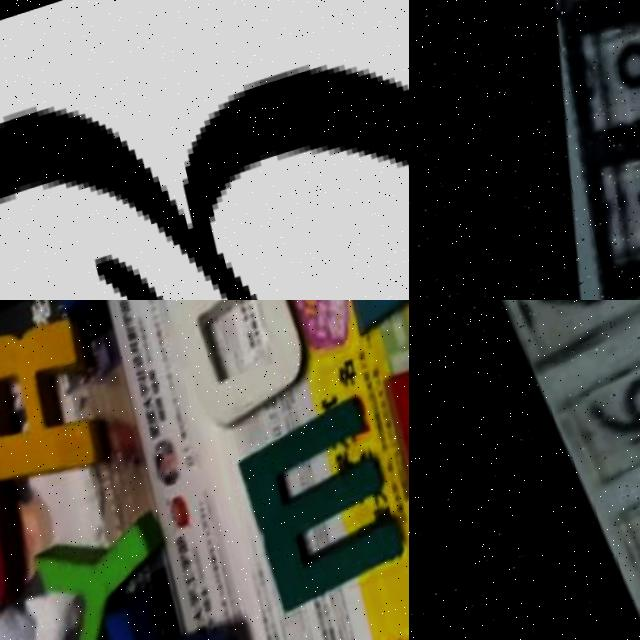1: (616, 144, 640, 250)
3: (0, 0, 409, 300)
4: (521, 300, 639, 343)
6: (568, 359, 640, 473)
8: (592, 12, 640, 125)
E: (371, 349, 409, 572)
M: (232, 403, 409, 620)
O: (0, 448, 31, 628)
Q: (156, 300, 332, 439)
R: (0, 315, 111, 495)
T: (102, 571, 245, 640)
Y: (28, 504, 188, 640)
